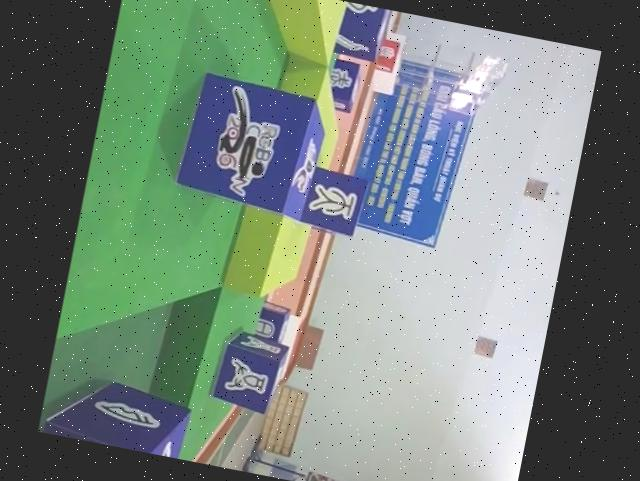R1 Blue: (174, 69, 333, 219)
R2 Fake Blue: (297, 163, 371, 237), (325, 55, 365, 113), (252, 299, 292, 345)
R2 Real Blue: (38, 367, 194, 459), (209, 327, 292, 415), (331, 0, 390, 61)
